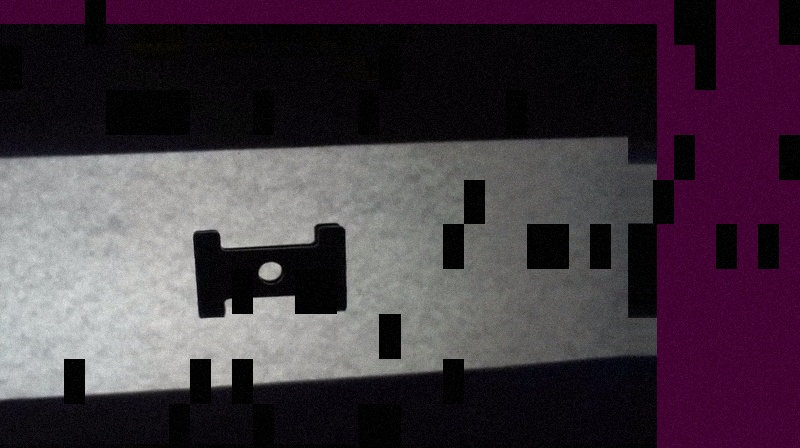O002: (192, 218, 353, 321)
